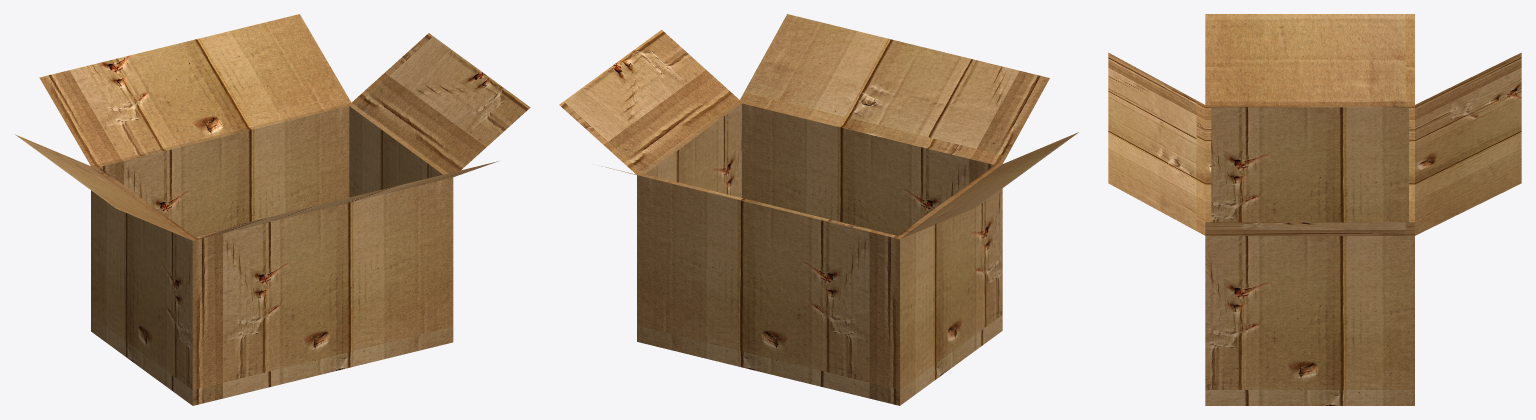
Rendered from caixas.gltf.
The picture shows the model from 3 angles, left to right: view 1: azimuth 30°, elevation 25°; view 2: azimuth 150°, elevation 25°; view 3: azimuth 270°, elevation 25°; orthographic projection. The views are drawn at different scales.
Parts seen in each view (by area): view 1: Cube; view 2: Cube; view 3: Cube.
Part boxes in pixels (x1,y1,x2,y2): Cube: (15, 14, 530, 405); Cube: (559, 14, 1078, 405); Cube: (1108, 14, 1521, 405).
Bounding box in the file's own units: 3.18 × 1.58 × 2.67.
Materials: 1 (1 with a texture image).
